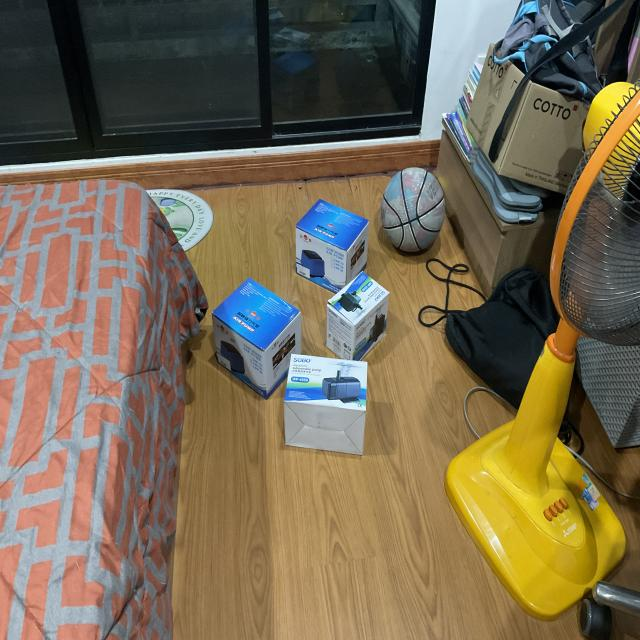SOBO_WP_4200: (273, 349, 380, 464), (312, 253, 413, 365)
YAMANO_LPP_20: (210, 275, 303, 404), (289, 192, 376, 300)
